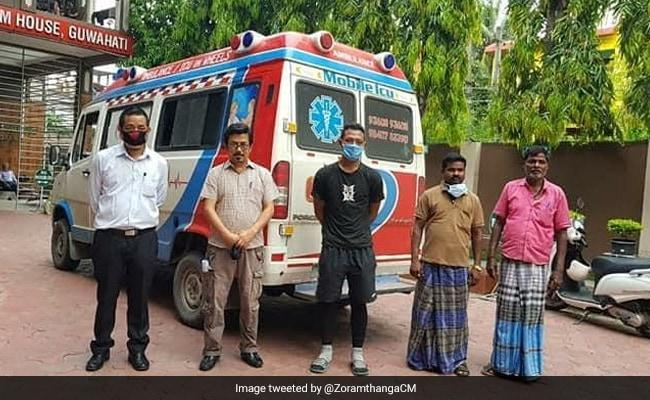ER: (50, 31, 433, 327)
